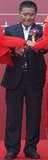boots: (24, 149, 40, 159), (5, 151, 17, 159)
